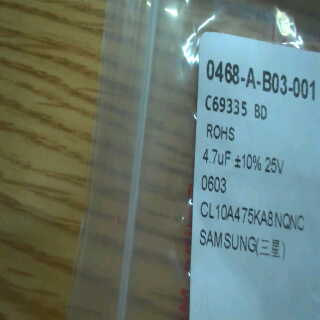4.7uF: (200, 148, 232, 166)
